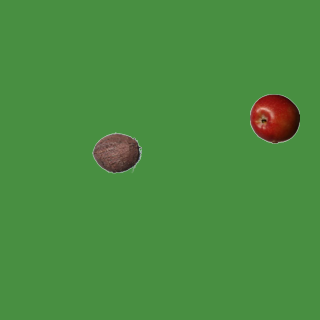Apple Braeburn: (249, 93, 299, 143)
Cocos: (91, 127, 141, 177)
